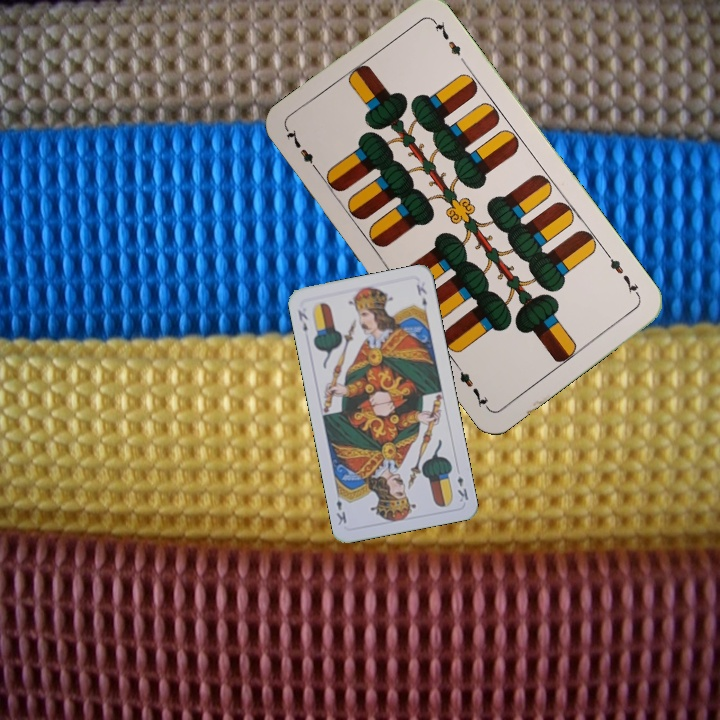E7: (282, 125, 323, 177), (602, 249, 643, 300)
EK: (453, 472, 471, 504), (293, 306, 311, 334)
